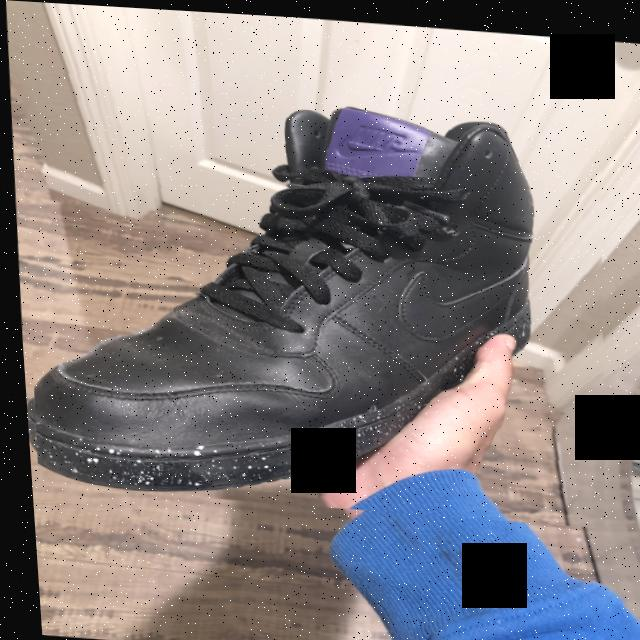shoe: (9, 55, 621, 523)
